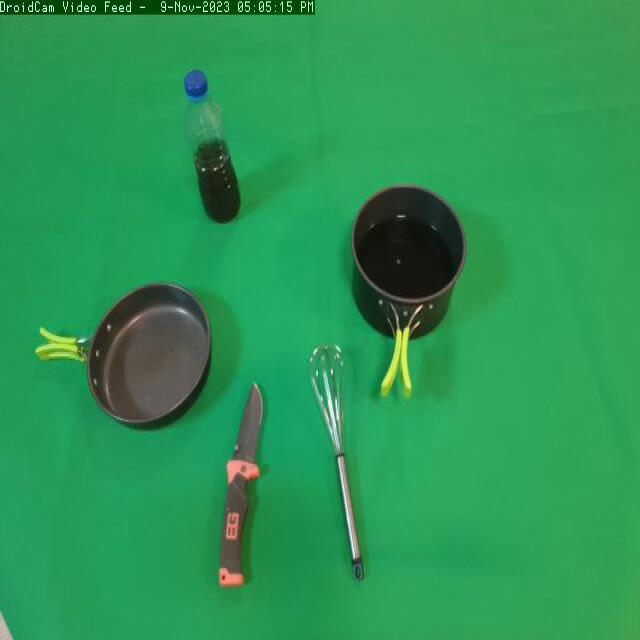fullbottle: (178, 60, 253, 229)
fullpot: (342, 178, 470, 417)
knife: (215, 370, 278, 600)
pan: (18, 278, 220, 436)
